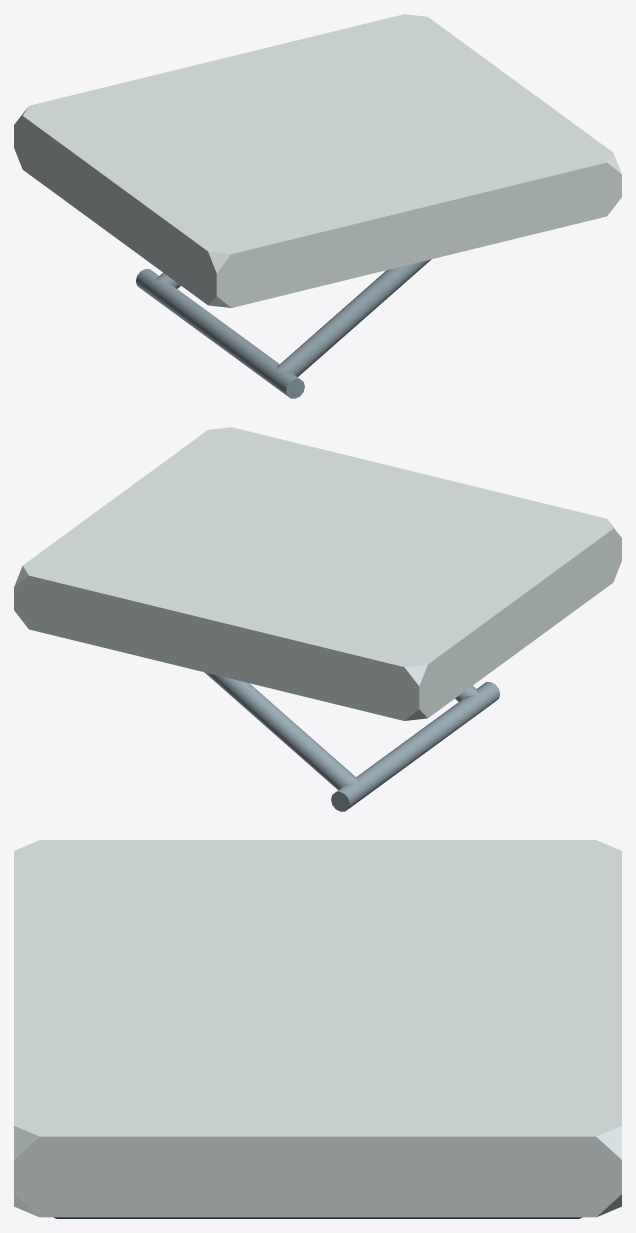
The model's file is mounted_starlink_mini.dae.
3 renders of one model, top to bottom at view 1: azimuth 30°, elevation 25°; view 2: azimuth 150°, elevation 25°; view 3: azimuth 270°, elevation 25°, orthographic. The views are drawn at different scales.
Parts seen in each view (by area): view 1: node0, node2; view 2: node0, node2; view 3: node0, node1.
Boxes of the visible parts, left/top/right/bottom form: node0: left=14, top=14, right=621, bottom=307; node2: left=136, top=259, right=431, bottom=398; node0: left=14, top=427, right=621, bottom=720; node2: left=204, top=672, right=499, bottom=811; node0: left=14, top=840, right=621, bottom=1217; node1: left=53, top=1217, right=582, bottom=1218.
Size of the model in its own units: 0.299 by 0.259 by 0.131.
